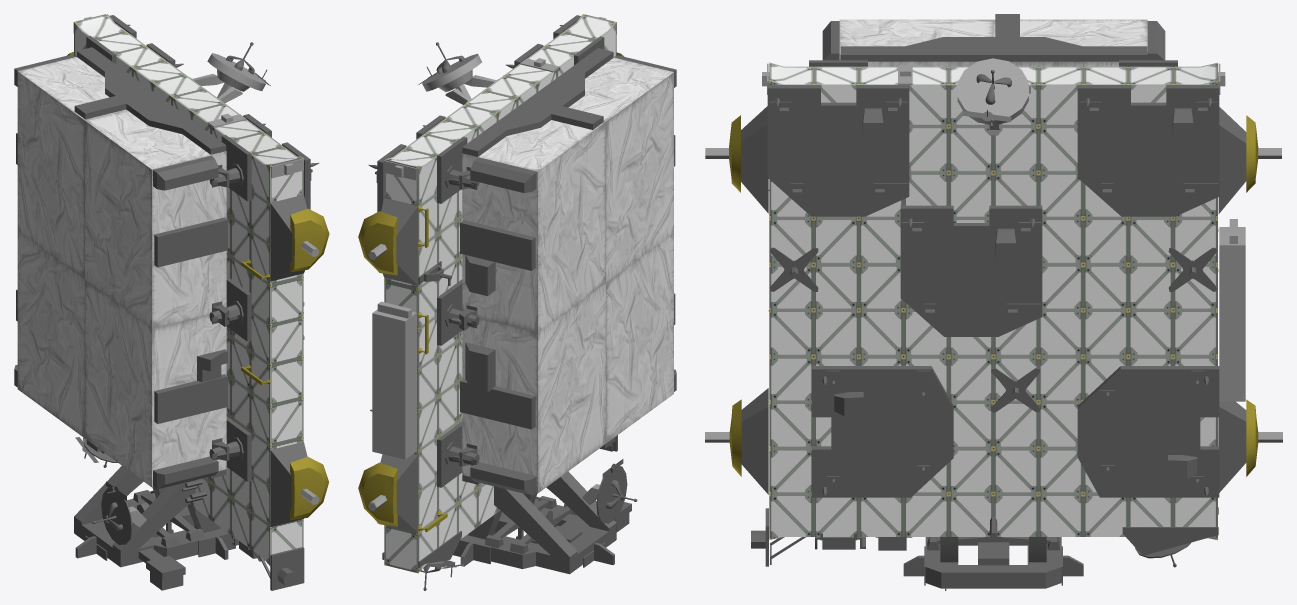
Rendered from ELC4.FBX.
3 renders of one model, left to right at view 1: azimuth 30°, elevation 25°; view 2: azimuth 150°, elevation 25°; view 3: azimuth 270°, elevation 25°, orthographic. The views are drawn at different scales.
Visible parts, largest first — view 1: ELC4_resized; view 2: ELC4_resized; view 3: ELC4_resized.
Part boxes in pixels (x1=…): ELC4_resized: x1=14, y1=14, x2=329, y2=590; ELC4_resized: x1=358, y1=14, x2=676, y2=590; ELC4_resized: x1=705, y1=14, x2=1282, y2=590.
Bounding box in the file's own units: 2.31 × 5.52 × 5.28.
5 materials, 2 textured.
